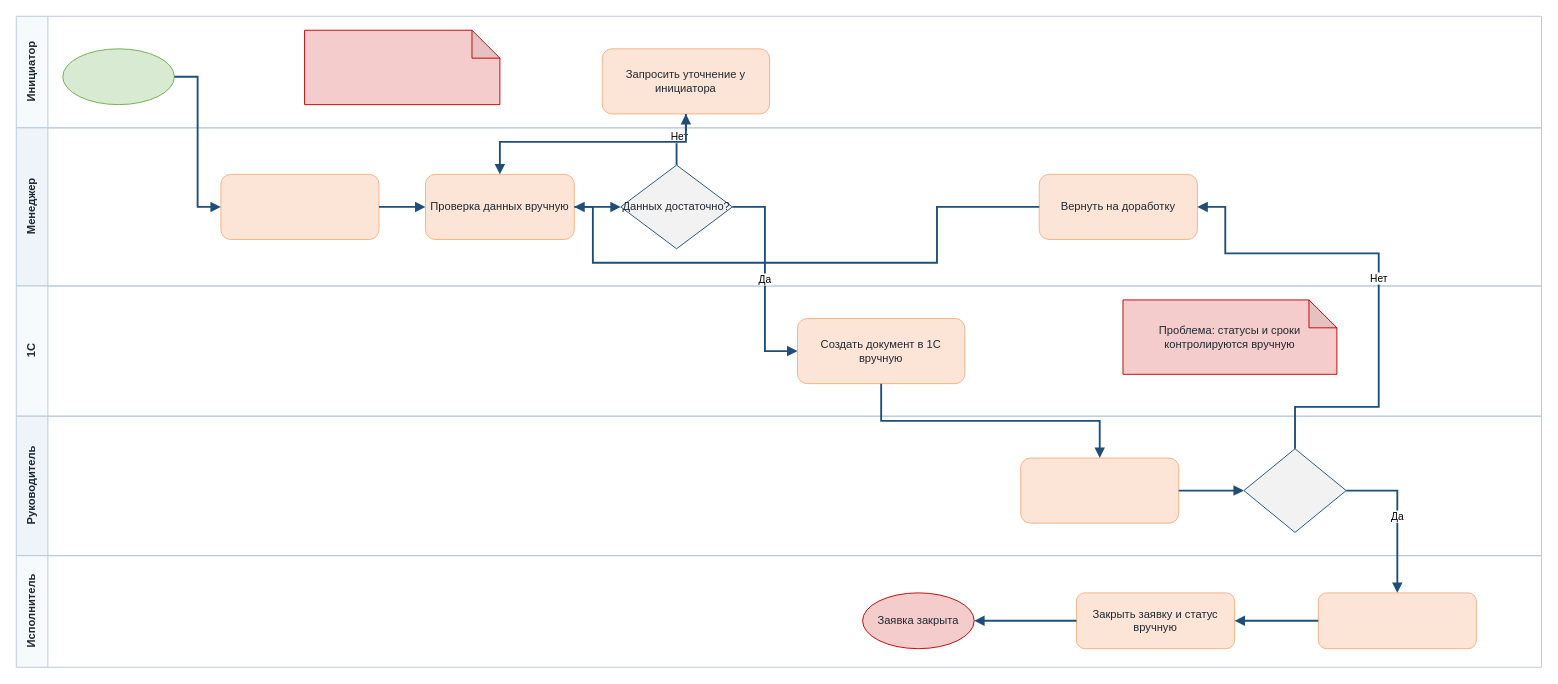
Some shapes in this 1558 by 684 pixel diagram are drawn without their labels. The centre of each missing label's shape, as x and y in pixels:
"Заявка поступила по почте или в чат" belongs at point 118,76.
"Менеджер вручную принимает заявку" belongs at point 299,206.
"Передать исполнителю" belongs at point 1396,620.
"Проблема: нет единого канала и обязательных полей" belongs at point 402,67.
"Согласование вне системы" belongs at point 1099,490.
"Согласовано?" belongs at point 1294,490.
